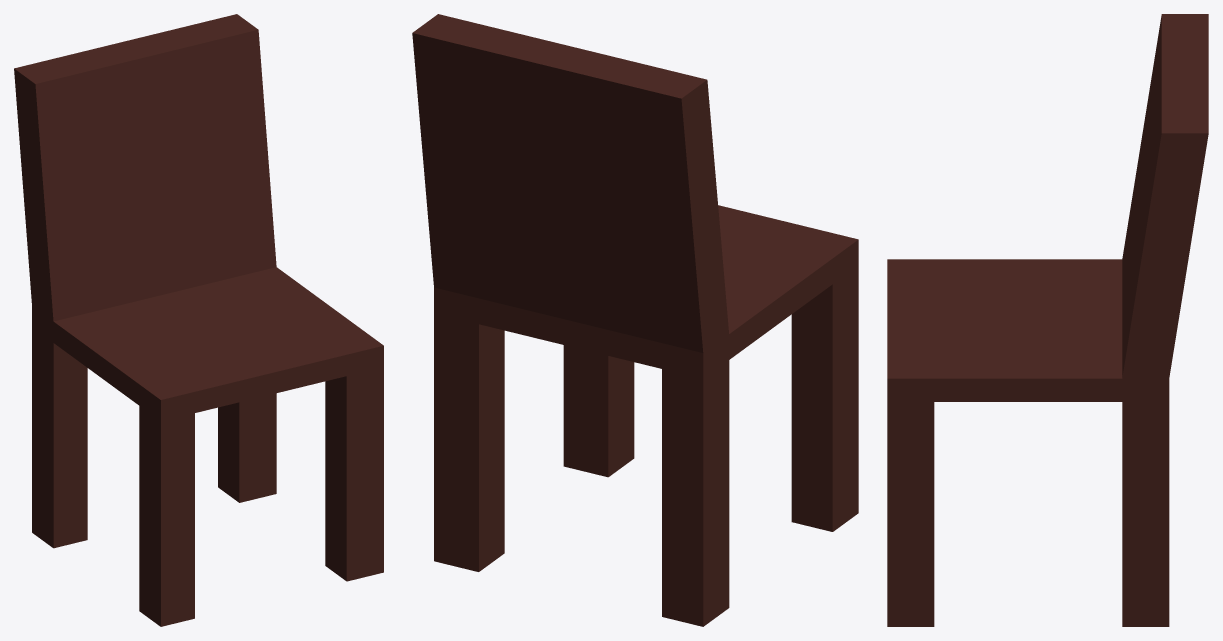
The model's file is chair.glb.
3 renders of one model, left to right at view 1: azimuth 30°, elevation 25°; view 2: azimuth 150°, elevation 25°; view 3: azimuth 270°, elevation 25°, orthographic. The views are drawn at different scales.
Visible parts, largest first — view 1: chair.001; view 2: chair.001; view 3: chair.001.
Part boxes in pixels (x1,y1,x2,y2): chair.001: (14, 14, 383, 626); chair.001: (412, 14, 858, 626); chair.001: (887, 14, 1208, 626).
Bounding box in the file's own units: 0.5116 × 0.9882 × 0.5832.
